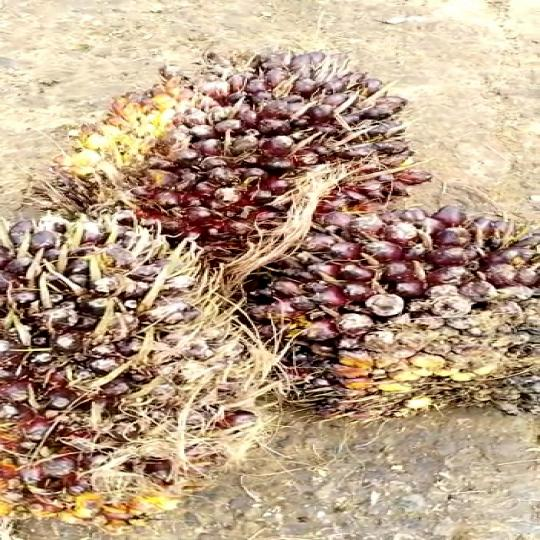kurang masak: (0, 184, 256, 522), (233, 184, 540, 424), (62, 46, 420, 240)
